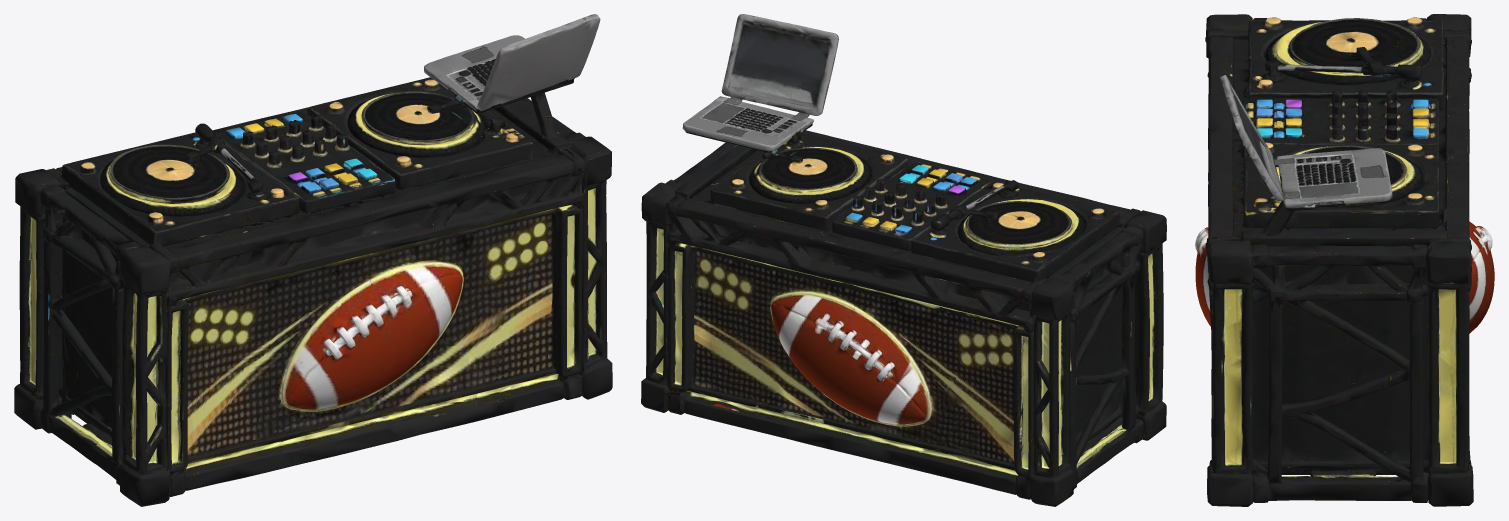
Rendered from dj_booth.glb.
3 renders of one model, left to right at view 1: azimuth 30°, elevation 25°; view 2: azimuth 150°, elevation 25°; view 3: azimuth 270°, elevation 25°, orthographic. The views are drawn at different scales.
Size of the model in its own units: 1.9 by 1.42 by 0.9934.
1 material, 1 textured.
